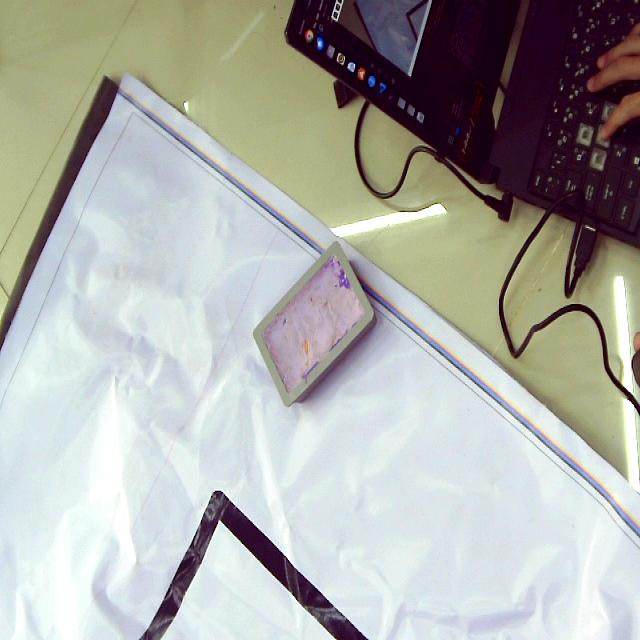block: (253, 241, 377, 407)
